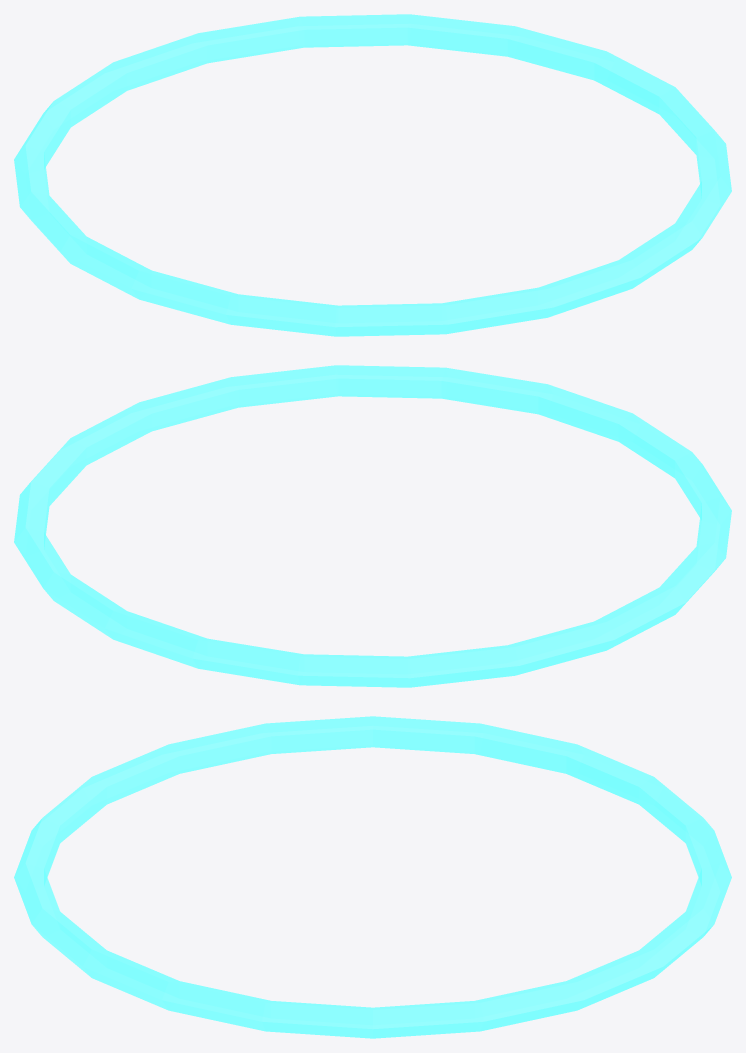
File: kanban_core_magnetic_ring.glb
3 renders of one model, top to bottom at view 1: azimuth 30°, elevation 25°; view 2: azimuth 150°, elevation 25°; view 3: azimuth 270°, elevation 25°, orthographic.
Visible parts, largest first — view 1: kanban_core_magnetic_ring; view 2: kanban_core_magnetic_ring; view 3: kanban_core_magnetic_ring.
Part boxes in pixels (box(x1,y1,x2,y2)): kanban_core_magnetic_ring: box(14, 14, 731, 336); kanban_core_magnetic_ring: box(14, 365, 731, 687); kanban_core_magnetic_ring: box(14, 716, 731, 1038).
Bounding box in the file's own units: 1.51 × 0.0666 × 1.51.
